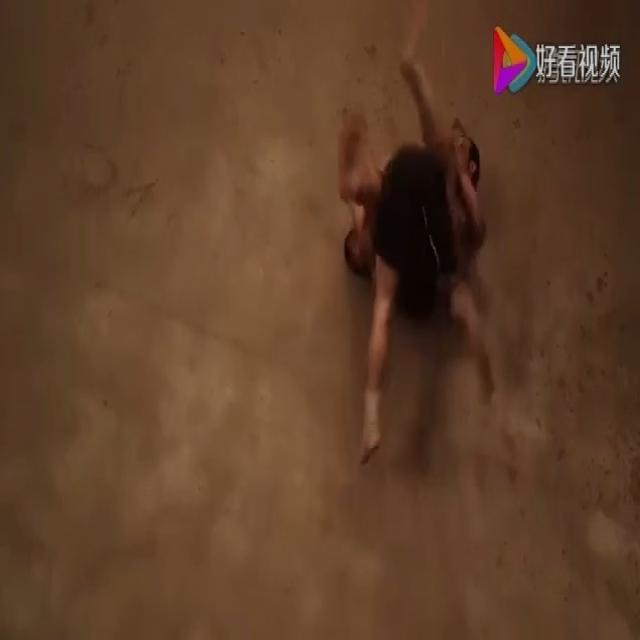fight: (320, 3, 498, 469)
